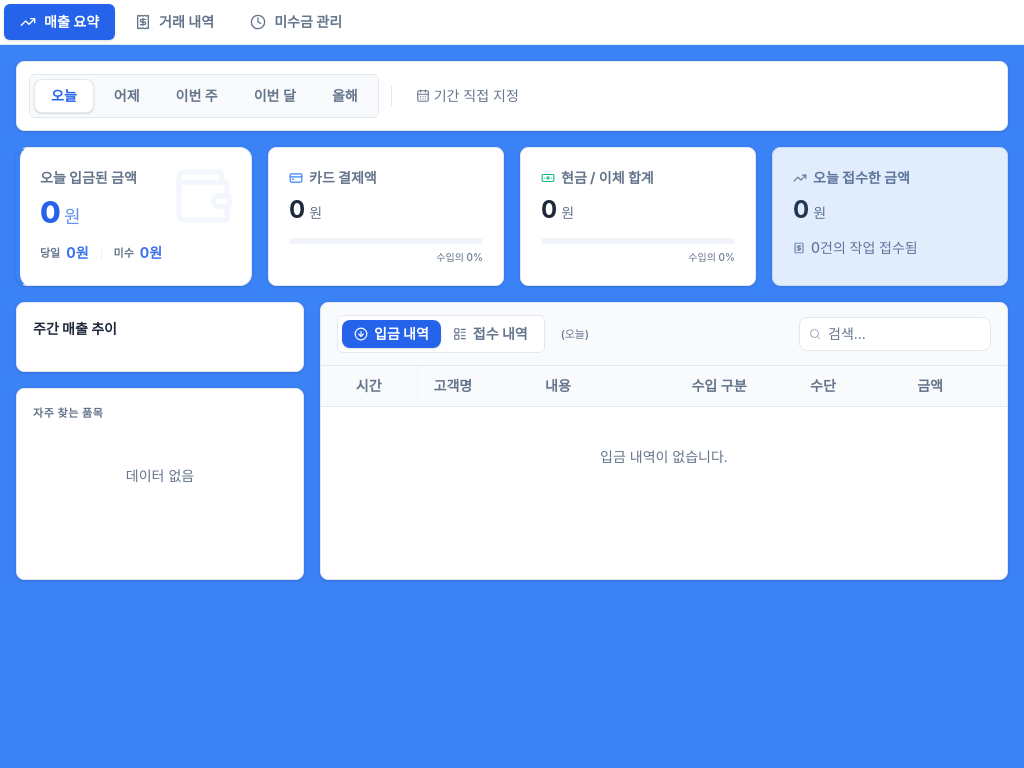
Test case: SalesPage › '미수금 관리' 탭 클릭 시 해당 콘텐츠가 표시된다
Click the button "미수금 관리".
click(296, 22)  # box [234,4,358,40]
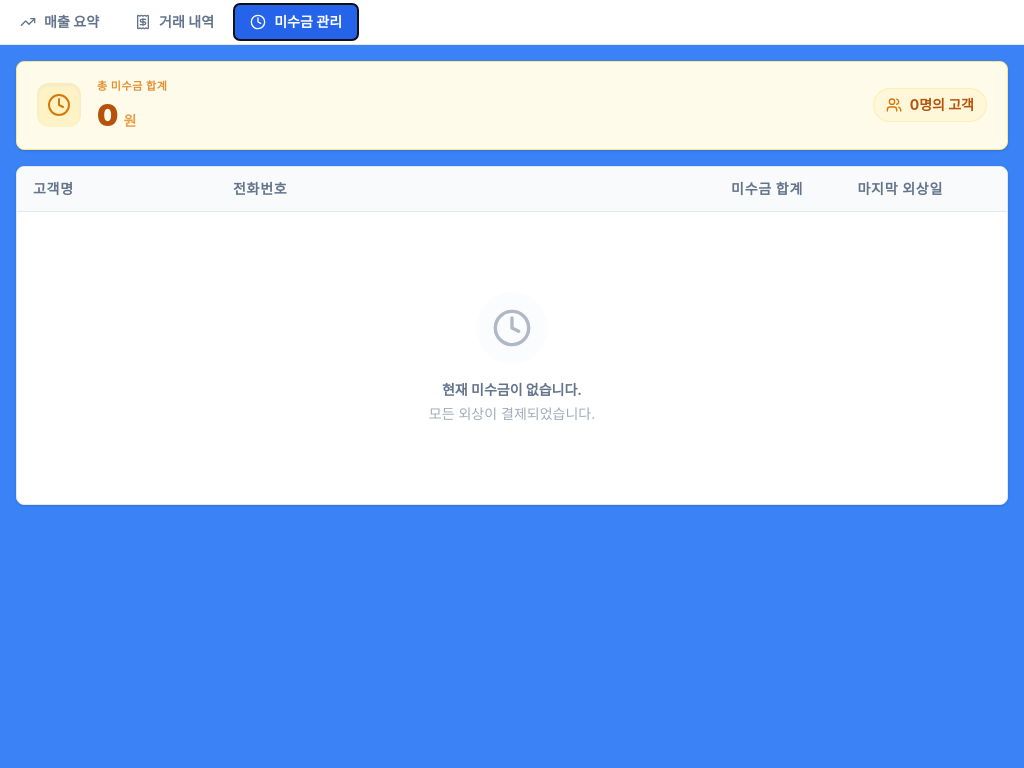
Check: the text "총 미수금 합계" is shown, box [97,78,167,94]
